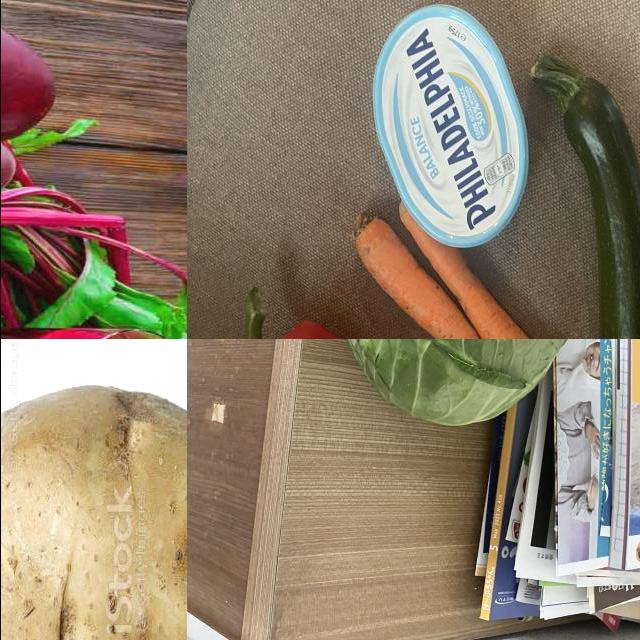beet: (1, 4, 56, 134), (1, 136, 33, 196)
cabbage: (340, 340, 589, 429)
carrot: (369, 206, 584, 340)
potato: (1, 386, 187, 640)
zucchini: (550, 54, 640, 340)
